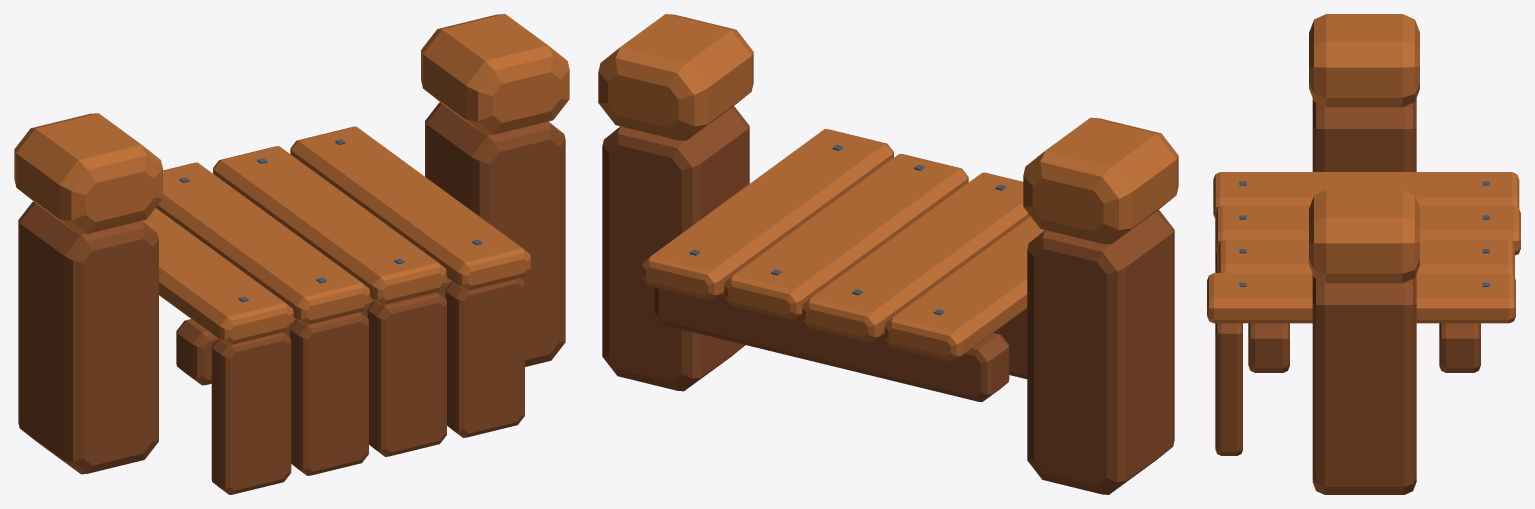
File: DrownedVillage_Wooden_Gate.glb
The picture shows the model from 3 angles, left to right: view 1: azimuth 30°, elevation 25°; view 2: azimuth 150°, elevation 25°; view 3: azimuth 270°, elevation 25°; orthographic projection. The views are drawn at different scales.
Visible parts, largest first — view 1: gate_post_01, gate_post_02, gate_plank_04, gate_plank_03, gate_plank_02, gate_post_cap_01, gate_post_cap_02, gate_plank_drop_01, gate_plank_drop_03, gate_plank_drop_02, gate_plank_drop_04, gate_plank_01 (+1 smaller); view 2: gate_post_01, gate_post_02, gate_plank_04, gate_plank_03, gate_plank_02, gate_post_cap_02, gate_post_cap_01, gate_stringer_01, gate_plank_01, gate_plank_drop_02; view 3: gate_post_02, gate_plank_04, gate_post_cap_01, gate_post_cap_02, gate_plank_01, gate_post_01, gate_plank_02, gate_plank_03, gate_plank_drop_04, gate_stringer_01, gate_stringer_02.
Boxes of the visible parts, box(x1,y1,x2,y2) form: gate_post_01: box(18, 201, 158, 474); gate_post_02: box(425, 102, 565, 366); gate_plank_04: box(290, 126, 530, 290); gate_plank_03: box(213, 146, 446, 304); gate_plank_02: box(156, 162, 370, 325); gate_post_cap_01: box(14, 113, 162, 234); gate_post_cap_02: box(421, 14, 569, 135); gate_plank_drop_01: box(211, 332, 291, 494); gate_plank_drop_03: box(367, 292, 446, 456); gate_plank_drop_02: box(289, 312, 368, 475); gate_plank_drop_04: box(445, 278, 524, 437); gate_plank_01: box(142, 208, 293, 345); gate_post_01: box(1027, 210, 1174, 494); gate_post_02: box(602, 106, 749, 391); gate_plank_04: box(642, 129, 893, 300); gate_plank_03: box(724, 154, 968, 319); gate_plank_02: box(802, 172, 1030, 342); gate_post_cap_02: box(598, 14, 753, 140); gate_post_cap_01: box(1023, 117, 1178, 244); gate_stringer_01: box(655, 287, 1009, 401); gate_plank_01: box(884, 216, 1044, 361); gate_plank_drop_02: box(994, 308, 1027, 379); gate_post_02: box(1312, 274, 1416, 494); gate_plank_04: box(1207, 273, 1515, 323); gate_post_cap_01: box(1309, 14, 1419, 107); gate_post_cap_02: box(1309, 190, 1419, 283); gate_plank_01: box(1213, 172, 1519, 219); gate_post_01: box(1312, 98, 1416, 171); gate_plank_02: box(1216, 205, 1520, 255); gate_plank_03: box(1218, 239, 1514, 277); gate_plank_drop_04: box(1215, 323, 1242, 455); gate_stringer_01: box(1439, 323, 1480, 372); gate_stringer_02: box(1248, 323, 1289, 372).
Size of the model in its own units: 3 by 1.77 by 1.81.
